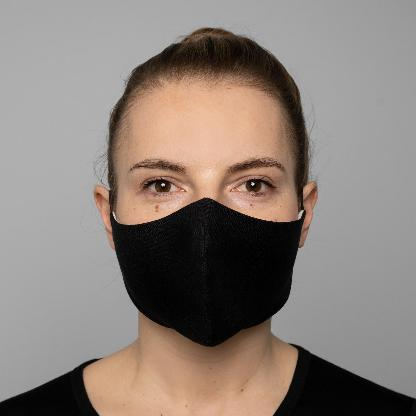Fabric/Cloth Mask: (108, 57, 316, 338)
